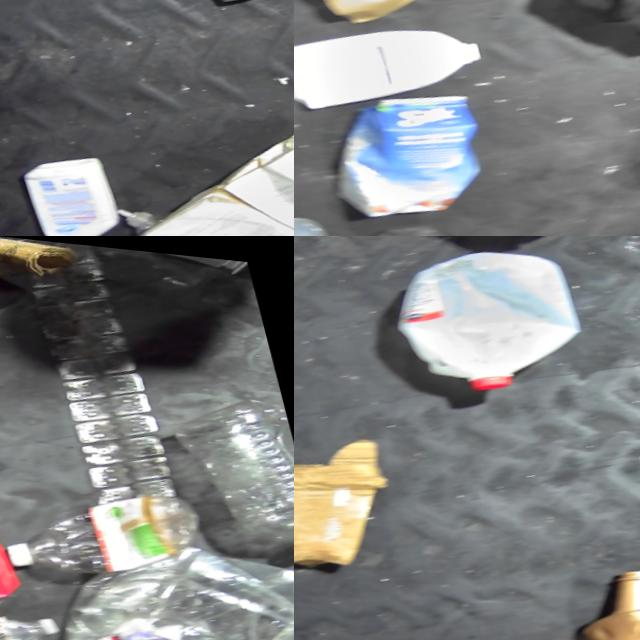can: (341, 59, 518, 215)
milk_jug: (373, 236, 599, 414), (294, 0, 489, 127)
non_white_jug: (568, 531, 640, 640)
plastic_bottle: (0, 462, 209, 598), (165, 370, 294, 567)
